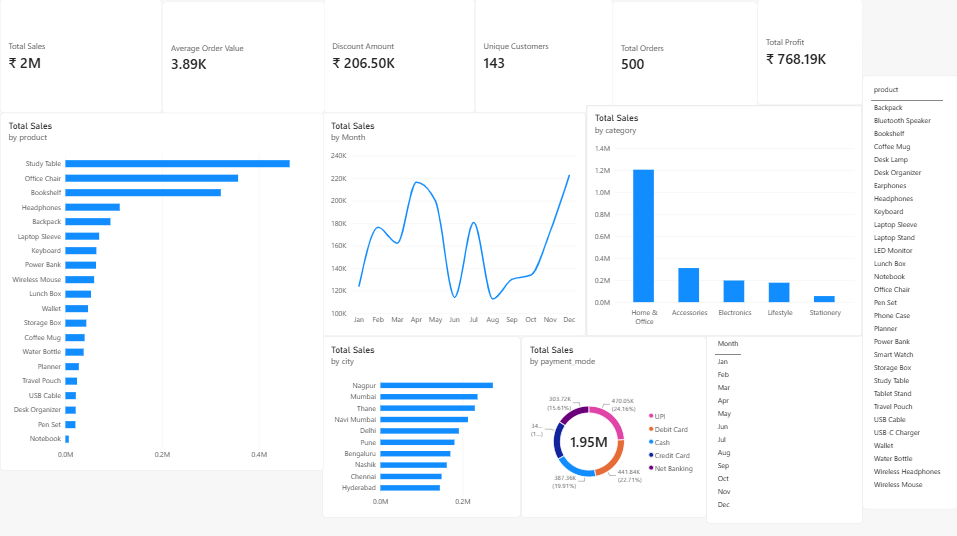

What the dashboard file says about the page in this screenshot:
{"tool":"powerbi","page":{"name":"Page 1","canvas":[1920,1080],"ordinal":0},"visuals":[{"type":"clusteredColumnChart","fields":{"Y":["sales_analytics sales.Discount Amount"]},"box":[26,748,302,288],"z":0},{"type":"clusteredColumnChart","fields":{"Y":["sales_analytics sales.Total Sales"]},"box":[1572,438,324,296],"z":1000},{"type":"clusteredColumnChart","fields":{"Y":["sales_analytics sales.Total Orders"]},"box":[26,438,302,296],"z":2000},{"type":"clusteredColumnChart","fields":{"Y":["sales_analytics sales.Unique Customers"]},"box":[1562,60,334.8,331.2],"z":3000},{"type":"clusteredColumnChart","fields":{"Y":["sales_analytics sales.Average Order Value"]},"box":[1572,748,324,288],"z":4000},{"type":"tableEx","fields":{"Values":["sales_analytics sales.Month"]},"box":[26,32,313.1,389.1],"z":5000},{"type":"lineChart","fields":{"Category":["sales_analytics sales.Month"],"Y":["sales_analytics sales.Total Sales"]},"box":[1018,60,510,480],"z":6000},{"type":"clusteredColumnChart","fields":{"Category":["sales_analytics products.category"],"Y":["sales_analytics sales.Total Sales"]},"box":[1018,612,544.7,423.5],"z":7000},{"type":"clusteredBarChart","fields":{"Y":["sales_analytics sales.Total Sales"],"Category":["sales_analytics sales.city"]},"box":[362,674,396,362],"z":8000},{"type":"clusteredBarChart","fields":{"Category":["sales_analytics products.product"],"Y":["sales_analytics sales.Total Sales"]},"box":[362,32,620,636],"z":9000},{"type":"tableEx","fields":{"Values":["sales_analytics products.product"]},"box":[758,674,224,362],"z":10000}]}

Visuals, with their boxes in screenshot pixels (x1, y1, x2, y2), scaled from the page's 1920x1080 canvas onto the 957x536 screenshot:
clusteredColumnChart - sales_analytics sales.Discount Amount: left=13, top=371, right=163, bottom=514
clusteredColumnChart - sales_analytics sales.Total Sales: left=784, top=217, right=945, bottom=364
clusteredColumnChart - sales_analytics sales.Total Orders: left=13, top=217, right=163, bottom=364
clusteredColumnChart - sales_analytics sales.Unique Customers: left=779, top=30, right=945, bottom=194
clusteredColumnChart - sales_analytics sales.Average Order Value: left=784, top=371, right=945, bottom=514
tableEx - sales_analytics sales.Month: left=13, top=16, right=169, bottom=209
lineChart - sales_analytics sales.Month x sales_analytics sales.Total Sales: left=507, top=30, right=762, bottom=268
clusteredColumnChart - sales_analytics products.category x sales_analytics sales.Total Sales: left=507, top=304, right=779, bottom=514
clusteredBarChart - sales_analytics sales.Total Sales x sales_analytics sales.city: left=180, top=335, right=378, bottom=514
clusteredBarChart - sales_analytics products.product x sales_analytics sales.Total Sales: left=180, top=16, right=489, bottom=332
tableEx - sales_analytics products.product: left=378, top=335, right=489, bottom=514
